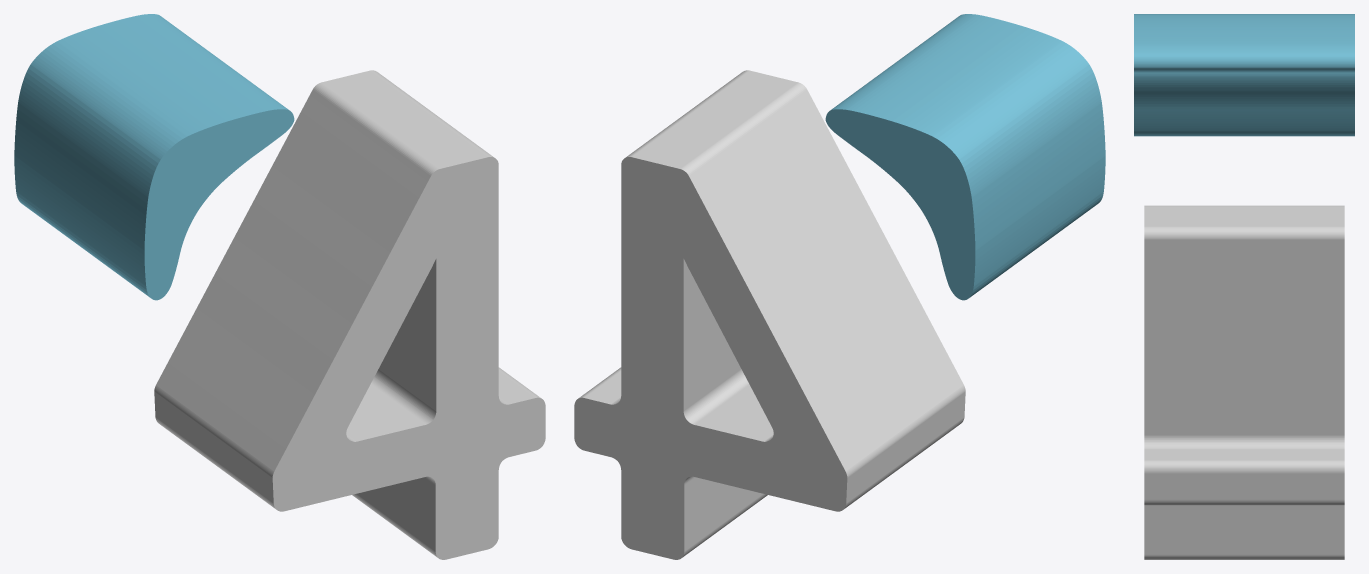
3 views of the same model, side by side, from view 1: azimuth 30°, elevation 25°; view 2: azimuth 150°, elevation 25°; view 3: azimuth 270°, elevation 25° (orthographic). The views are drawn at different scales.
Parts seen in each view (by area): view 1: U+FE831_layer00_obj00, U+FE831_layer01_obj00; view 2: U+FE831_layer00_obj00, U+FE831_layer01_obj00; view 3: U+FE831_layer00_obj00, U+FE831_layer01_obj00.
Part boxes in pixels (x1=…): U+FE831_layer00_obj00: x1=154, y1=70, x2=545, y2=559; U+FE831_layer01_obj00: x1=14, y1=14, x2=294, y2=300; U+FE831_layer00_obj00: x1=574, y1=70, x2=965, y2=559; U+FE831_layer01_obj00: x1=825, y1=14, x2=1105, y2=300; U+FE831_layer00_obj00: x1=1144, y1=205, x2=1344, y2=559; U+FE831_layer01_obj00: x1=1134, y1=14, x2=1354, y2=136.
Bounding box in the file's own units: 0.1986 × 0.2323 × 0.11.
